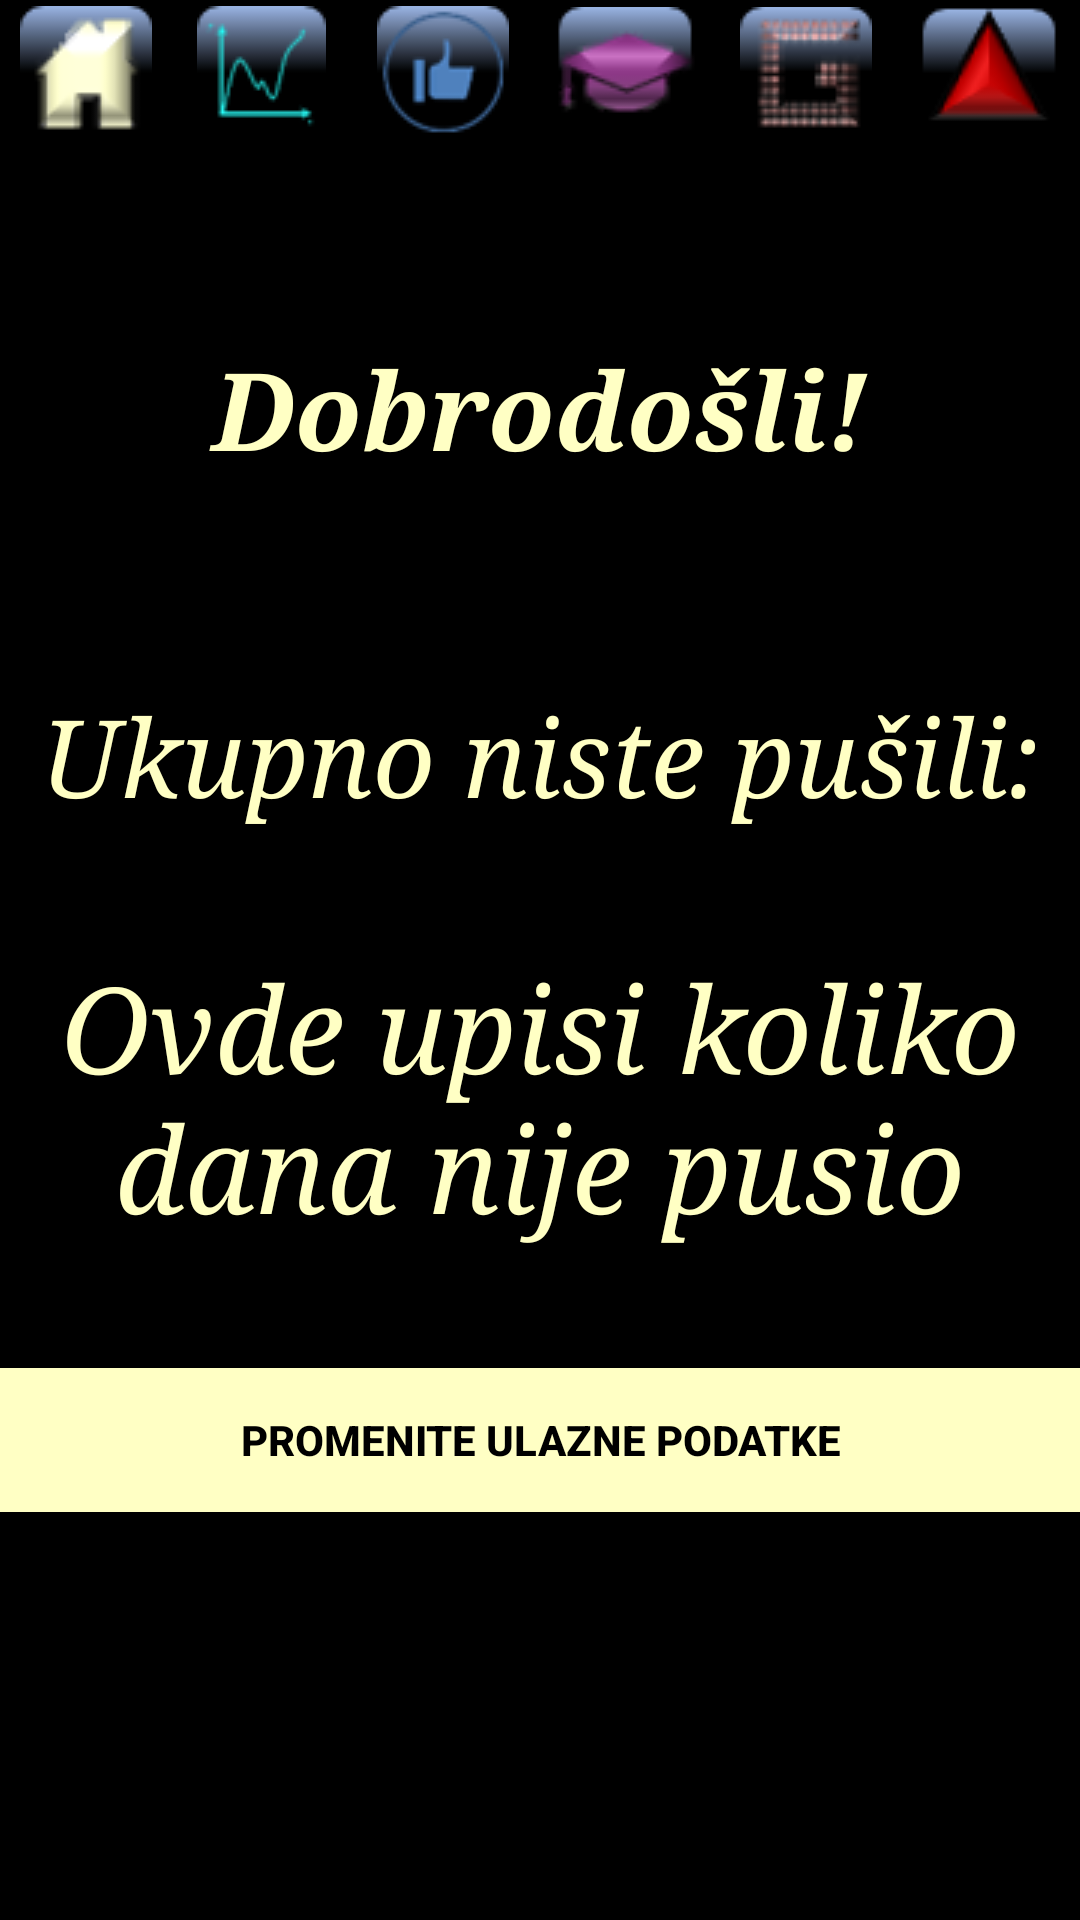

Named icons in this screenshot (1080 × 1920) and their centers, point (x, y):
Achievements: point (625, 59)
Game: point (806, 67)
Home: point (86, 68)
Motivations: point (443, 69)
Progress: point (261, 65)
